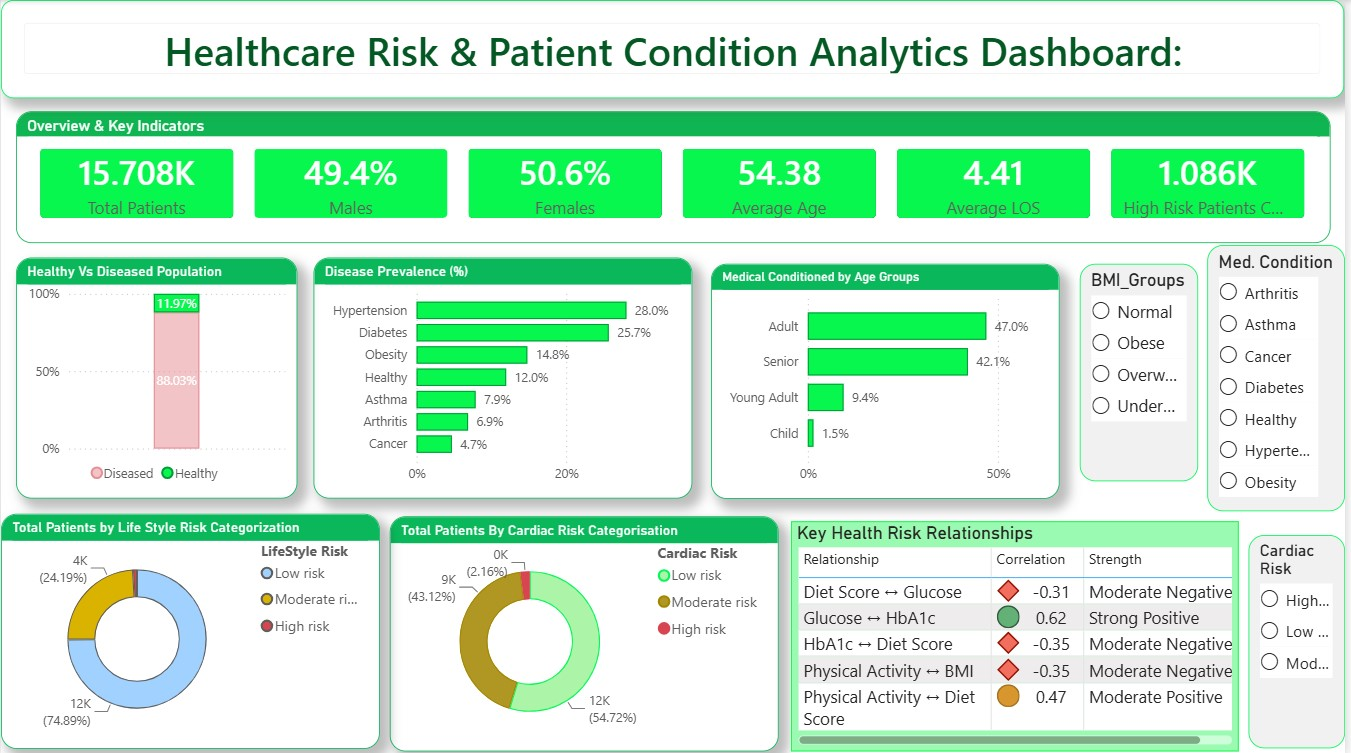

Layout of this report page (visuals, bound fields, positions):
{"tool":"powerbi","page":{"name":"Executive Overview","canvas":[1280,720],"ordinal":0},"visuals":[{"type":"cardVisual","title":"Overview & Key Indicators","fields":{"Data":["MEASURES_Table.m_Total Patients","MEASURES_Table.m_Males_%","MEASURES_Table.m_Females_%","MEASURES_Table.m_Average Age","MEASURES_Table.m_Average_LOS","MEASURES_Table.m_No.High Risk_Patients"]},"box":[14.8,105.9,1252,125.3],"z":0},{"type":"clusteredBarChart","title":"Medical Conditioned by Age Groups","fields":{"Category":["DIM_AgeGroups.Age_Groups"],"Y":["MEASURES_Table.m_TotalPatients_%"]},"box":[676.2,251.2,332.1,223.8],"z":1000},{"type":"clusteredBarChart","title":"Disease Prevalence (%)","fields":{"Category":["DIM_MedicalCondition.Medical Condition"],"Y":["MEASURES_Table.m_TotalPatients_%"]},"box":[297.6,245.2,360.7,229.8],"z":2000},{"type":"hundredPercentStackedColumnChart","title":"Healthy Vs Diseased Population","fields":{"Y":["MEASURES_Table.m_Non_HealthyPatients_%","MEASURES_Table.m_HealthyPatients_%"]},"box":[14.3,245.2,267.9,229.8],"z":3000},{"type":"donutChart","title":"Total Patients By Cardiac Risk Categorisation","fields":{"Category":["FACT_Healthdata.Cardiac_Risk_categories"],"Y":["MEASURES_Table.m_Total Patients"]},"box":[370.2,491.7,370.2,223.8],"z":4000},{"type":"listSlicer","fields":{"Values":["DIM_MedicalCondition.Medical Condition"]},"box":[1148.8,233.3,131,253.6],"z":5000},{"type":"listSlicer","fields":{"Values":["FACT_Healthdata.BMI_Groups"]},"box":[1027.4,251.2,113.1,207.1],"z":6000},{"type":"cardVisual","fields":{"Data":["MEASURES_Table.dT_Main"]},"box":[0,0,1279.4,93.4],"z":7000},{"type":"donutChart","title":"Total Patients by Life Style Risk Categorization","fields":{"Category":["FACT_Healthdata.LifeStyle Risk Category"],"Y":["MEASURES_Table.m_Total Patients"]},"box":[0,489.3,360.7,223.8],"z":8000},{"type":"listSlicer","title":"Cardiac Risk","fields":{"Values":["FACT_Healthdata.Cardiac_Risk_categories"]},"box":[1188.1,509.5,91.7,203.6],"z":9000},{"type":"tableEx","title":"Strongest Relationships in Dataset","fields":{"Values":["Strong Correlations.Relationship","Sum(Strong Correlations.Correlation)","Strong Correlations.Strength"]},"box":[752.4,496.4,426.2,219],"z":10000}]}

Visuals, with their boxes in screenshot pixels (x1, y1, x2, y2), scaled from the page's 1280x720 canvas onto the 1351x753 screenshot:
"Overview & Key Indicators" cardVisual: x1=16 y1=111 x2=1337 y2=242
"Medical Conditioned by Age Groups" clusteredBarChart: x1=714 y1=263 x2=1064 y2=497
"Disease Prevalence (%)" clusteredBarChart: x1=314 y1=256 x2=695 y2=497
"Healthy Vs Diseased Population" hundredPercentStackedColumnChart: x1=15 y1=256 x2=298 y2=497
"Total Patients By Cardiac Risk Categorisation" donutChart: x1=391 y1=514 x2=781 y2=748
listSlicer - DIM_MedicalCondition.Medical Condition: x1=1213 y1=244 x2=1350 y2=509
listSlicer - FACT_Healthdata.BMI_Groups: x1=1084 y1=263 x2=1204 y2=479
cardVisual - MEASURES_Table.dT_Main: x1=0 y1=0 x2=1350 y2=98
"Total Patients by Life Style Risk Categorization" donutChart: x1=0 y1=512 x2=381 y2=746
"Cardiac Risk" listSlicer: x1=1254 y1=533 x2=1350 y2=746
"Strongest Relationships in Dataset" tableEx: x1=794 y1=519 x2=1244 y2=748
